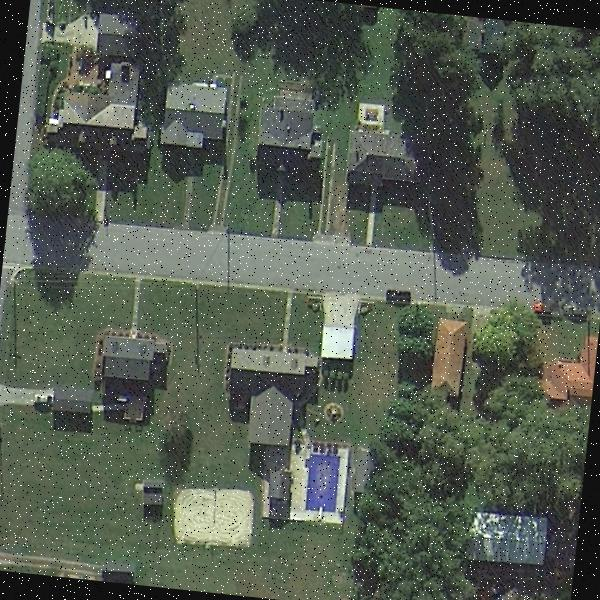Buildings: (230, 351, 309, 437), (94, 327, 172, 411), (47, 82, 134, 142), (160, 81, 233, 148), (343, 133, 411, 188), (256, 102, 310, 160), (470, 524, 540, 562), (548, 341, 596, 396), (433, 318, 465, 394)
